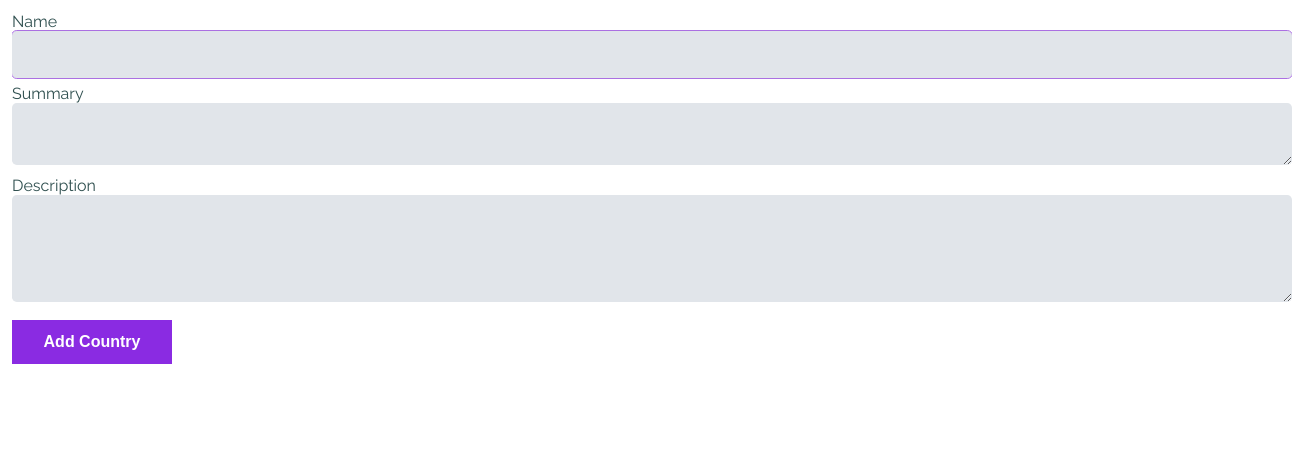
Test case: Adding a country, unhappy paths › clicking on the Add country button does not add the country when there is no name
Type "test description" into the text box labelled "Description" at (652, 248), box [12,195,1292,302]
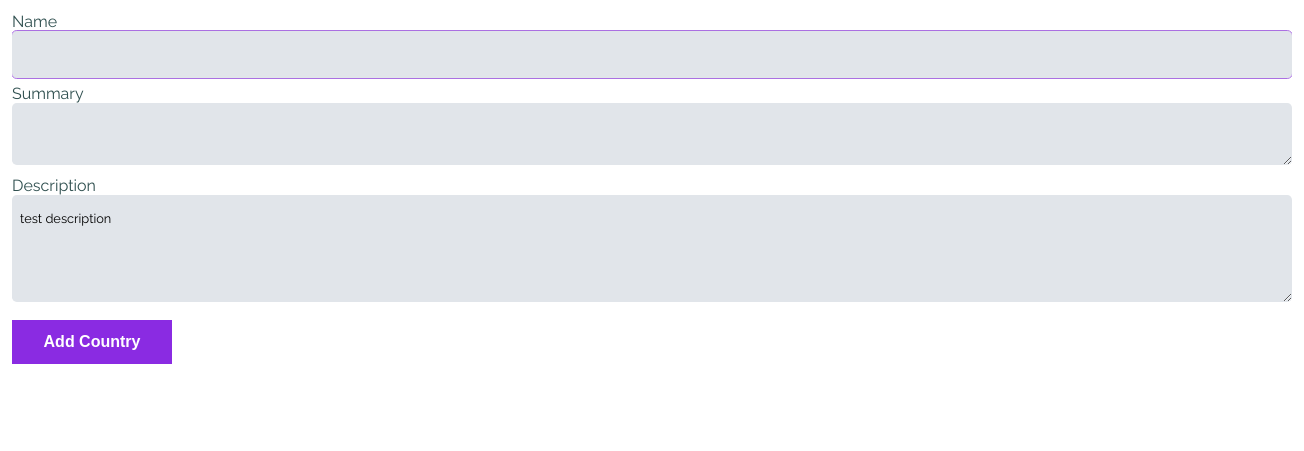
Type "test summary" into the text box labelled "Summary" at (652, 134), box [12,103,1292,165]
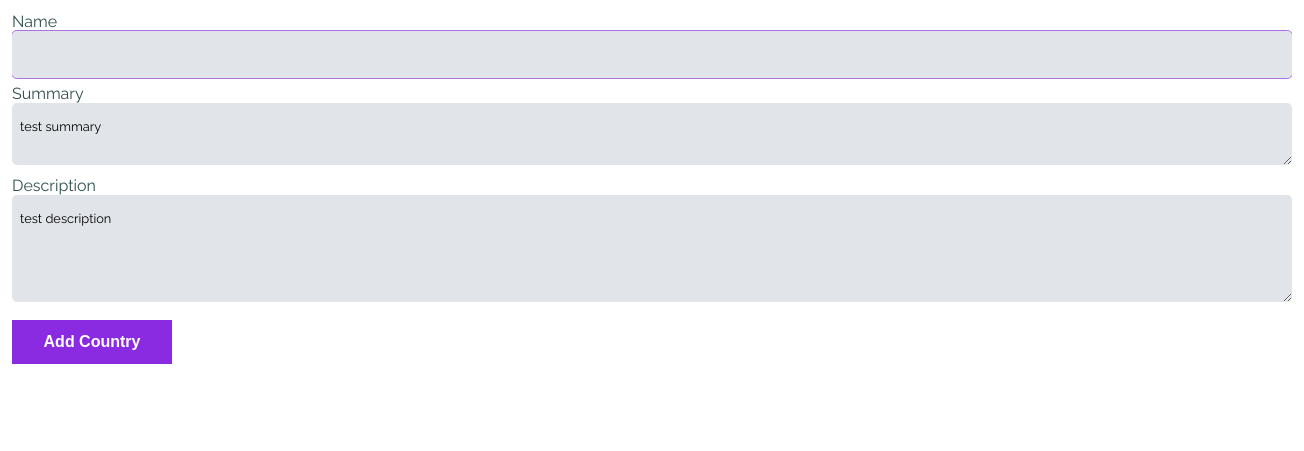
Click the button "Add Country" at (92, 342), box [12,320,172,364]
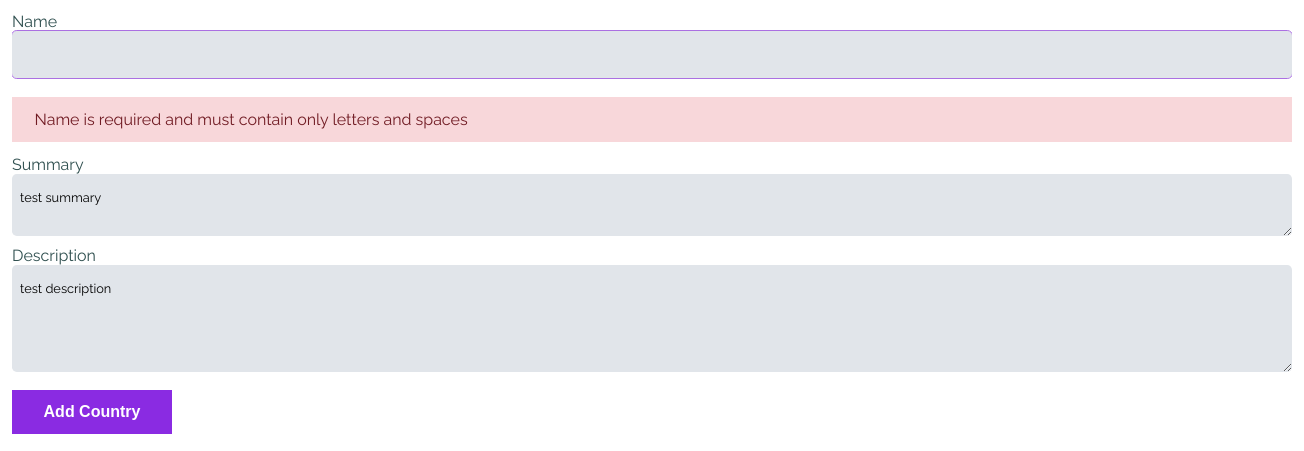
Result: the text "Name is required and must contain only letters and spaces" is shown at [12,97,1292,142]
